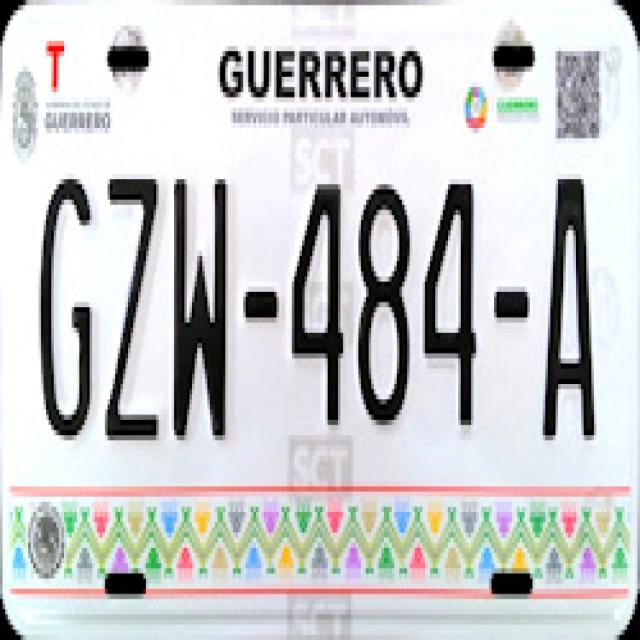placa: (11, 145, 633, 464)
